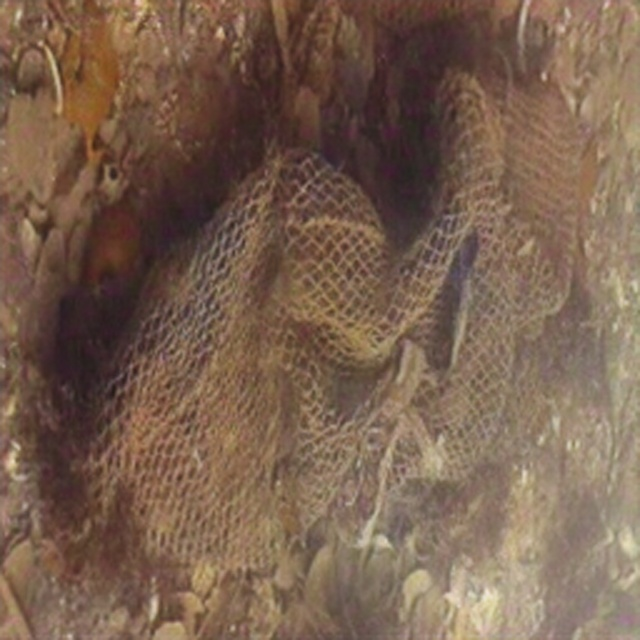mine: (83, 69, 580, 572)
